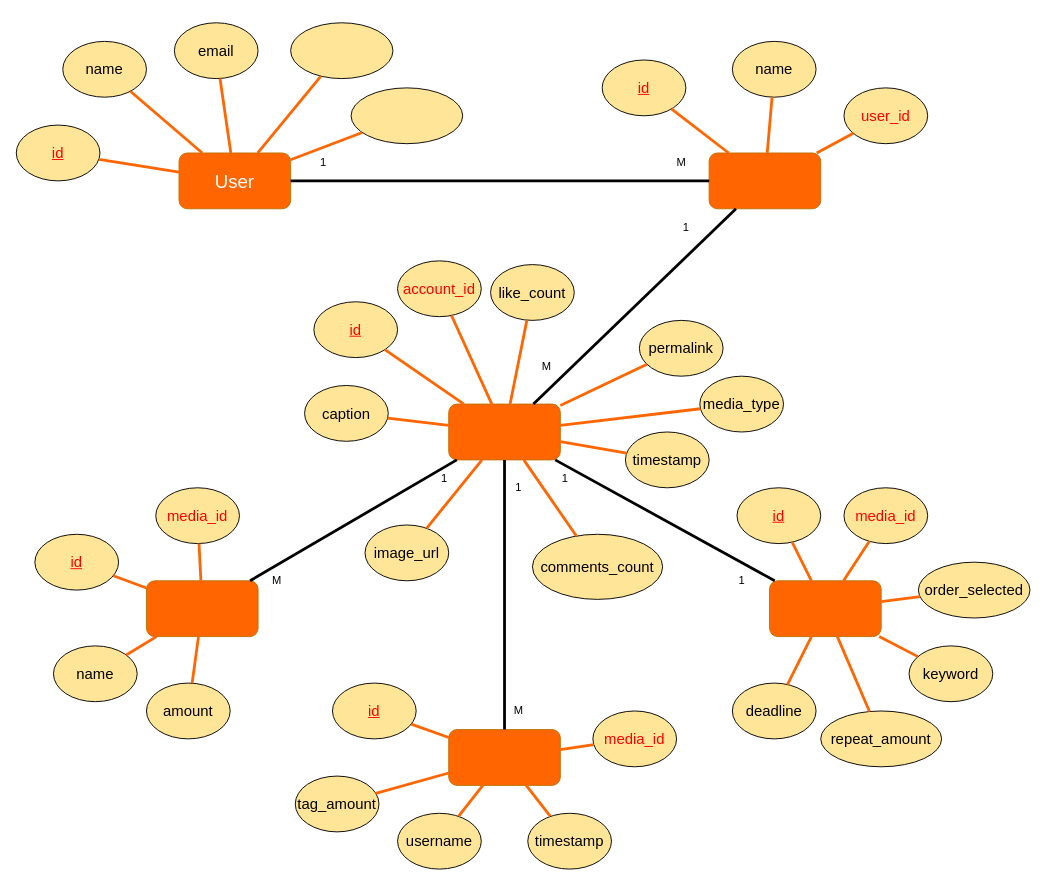
This 1046x885 diagram has some shape labels left out. The centre of each missing label's shape, as x and y in pixels:
"access_token" goes at (x=341, y=50).
"Account" goes at (x=764, y=180).
"Award" goes at (x=202, y=608).
"Comment" goes at (x=504, y=757).
"Condition" goes at (x=825, y=608).
"last_media_id" goes at (x=406, y=115).
"Media" goes at (x=504, y=431).
